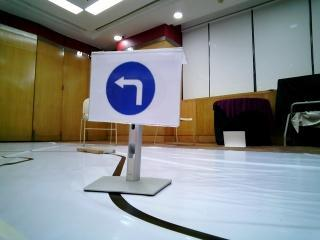left: (94, 54, 171, 120)
